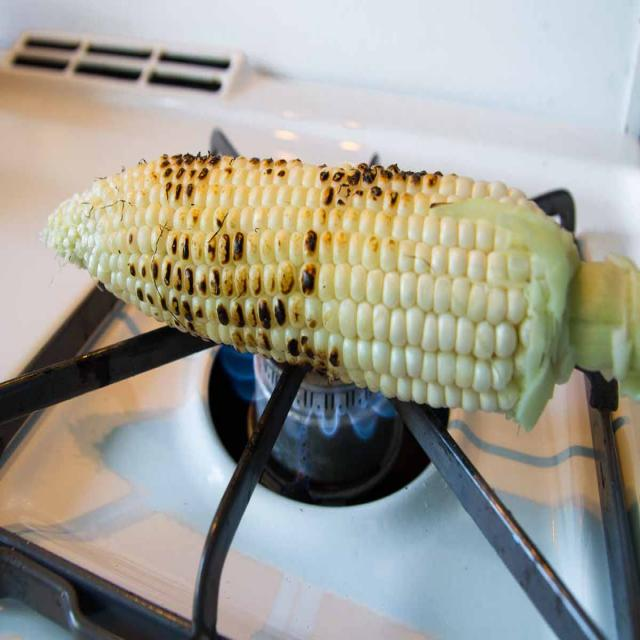Corn ear: (310, 154, 554, 425), (73, 144, 308, 352)
